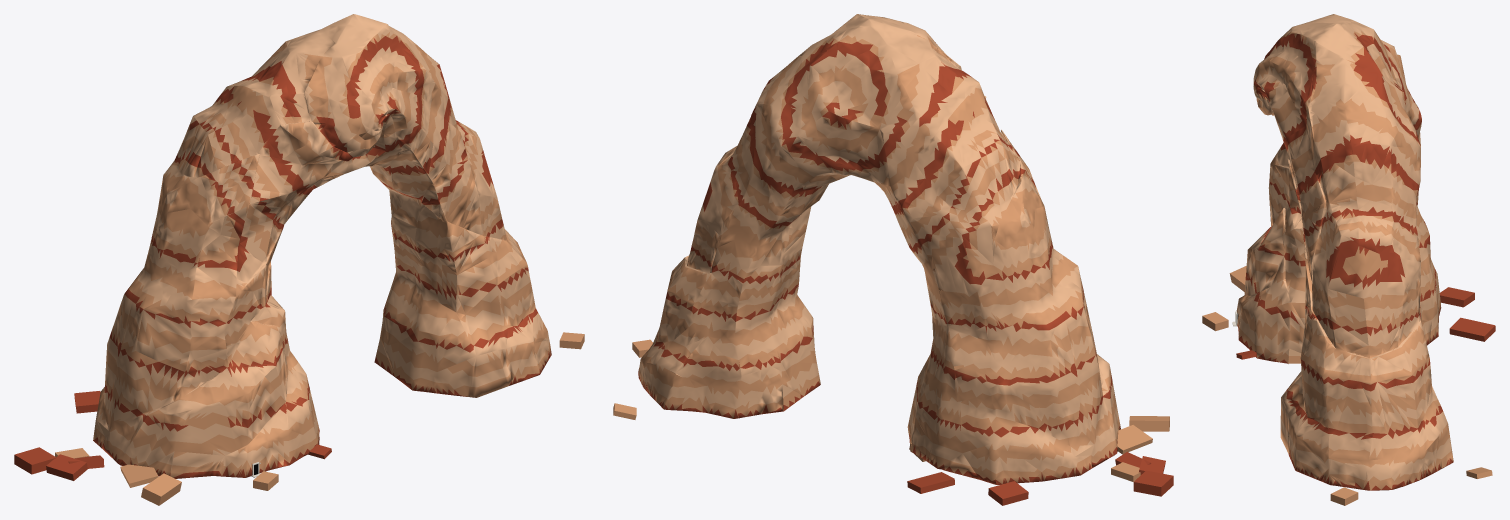
Rendered from sand_strata_arch.glb.
3 views of the same model, side by side, from view 1: azimuth 30°, elevation 25°; view 2: azimuth 150°, elevation 25°; view 3: azimuth 270°, elevation 25° (orthographic). The views are drawn at different scales.
Visible parts, largest first — view 1: sand_strata_arch; view 2: sand_strata_arch; view 3: sand_strata_arch.
Part boxes in pixels (bbox=[...]): sand_strata_arch: bbox=[14, 14, 584, 505]; sand_strata_arch: bbox=[613, 14, 1173, 505]; sand_strata_arch: bbox=[1202, 14, 1495, 505].
Bounding box in the file's own units: 123 × 83.12 × 58.9.
